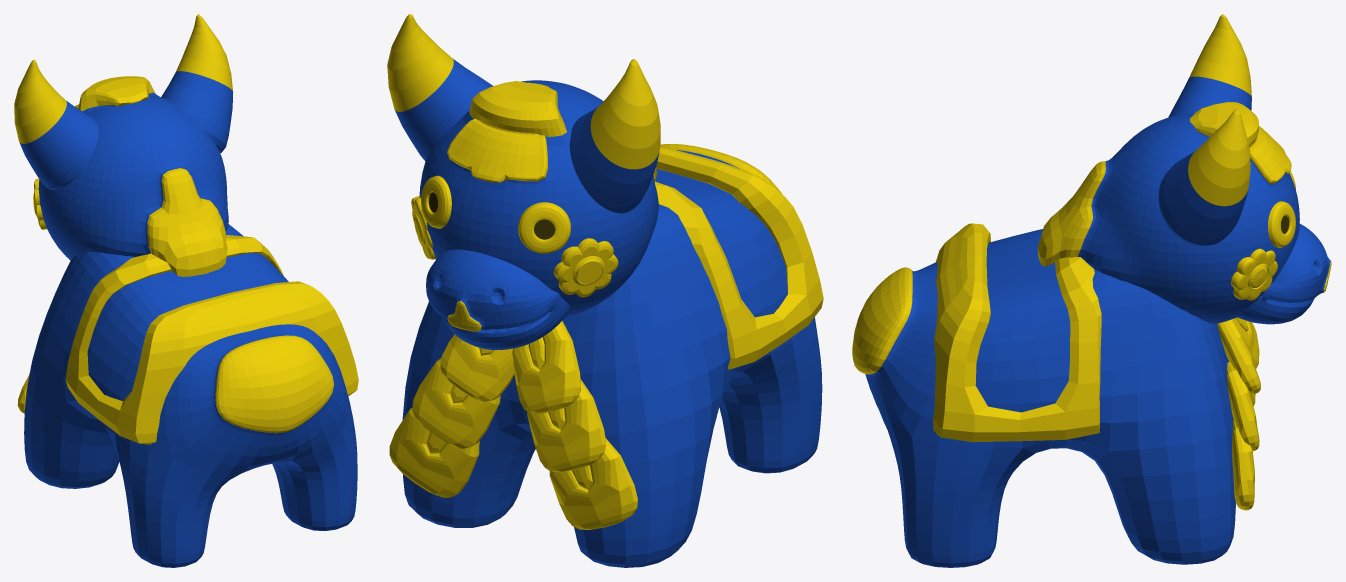
File: torito.glb
3 views of the same model, side by side, from view 1: azimuth 30°, elevation 25°; view 2: azimuth 150°, elevation 25°; view 3: azimuth 270°, elevation 25° (orthographic). The views are drawn at different scales.
Parts seen in each view (by area): view 1: Cube, Esfera.002, Cube.003, Cilindro.001, Cilindro; view 2: Cube, Esfera.002, Cube.003, Cube.002, Cube.001, Esfera, Cilindro.001, Cilindro, Cylinder.007, Cylinder, Cylinder.001, Cylinder.002; view 3: Cube, Esfera.002, Cube.003, Cilindro, Cube.001, Cilindro.001, Esfera, Cylinder.002, Cylinder.001, Cube.002.
Part boxes in pixels (bbox=[...]): Cube: bbox=[24, 224, 357, 567]; Esfera.002: bbox=[38, 76, 228, 276]; Cube.003: bbox=[65, 235, 358, 444]; Cilindro.001: bbox=[14, 59, 98, 189]; Cilindro: bbox=[161, 14, 233, 153]; Cube: bbox=[402, 143, 822, 567]; Esfera.002: bbox=[419, 80, 658, 317]; Cube.003: bbox=[654, 146, 823, 369]; Cube.002: bbox=[512, 321, 637, 529]; Cube.001: bbox=[389, 334, 514, 497]; Esfera: bbox=[426, 249, 570, 349]; Cilindro.001: bbox=[569, 59, 660, 213]; Cilindro: bbox=[387, 14, 493, 161]; Cylinder.007: bbox=[553, 238, 618, 297]; Cylinder: bbox=[518, 202, 570, 253]; Cylinder.001: bbox=[421, 175, 451, 228]; Cylinder.002: bbox=[411, 196, 435, 259]; Cube: bbox=[852, 229, 1235, 567]; Esfera.002: bbox=[1037, 102, 1299, 323]; Cube.003: bbox=[933, 223, 1101, 442]; Cilindro: bbox=[1158, 108, 1250, 246]; Cube.001: bbox=[1217, 319, 1260, 510]; Cilindro.001: bbox=[1168, 14, 1251, 117]; Esfera: bbox=[1237, 224, 1331, 324]; Cylinder.002: bbox=[1231, 248, 1277, 300]; Cylinder.001: bbox=[1267, 201, 1295, 247]; Cube.002: bbox=[1233, 317, 1259, 419].
Size of the model in its own units: 10.27 by 17.36 by 16.5.
